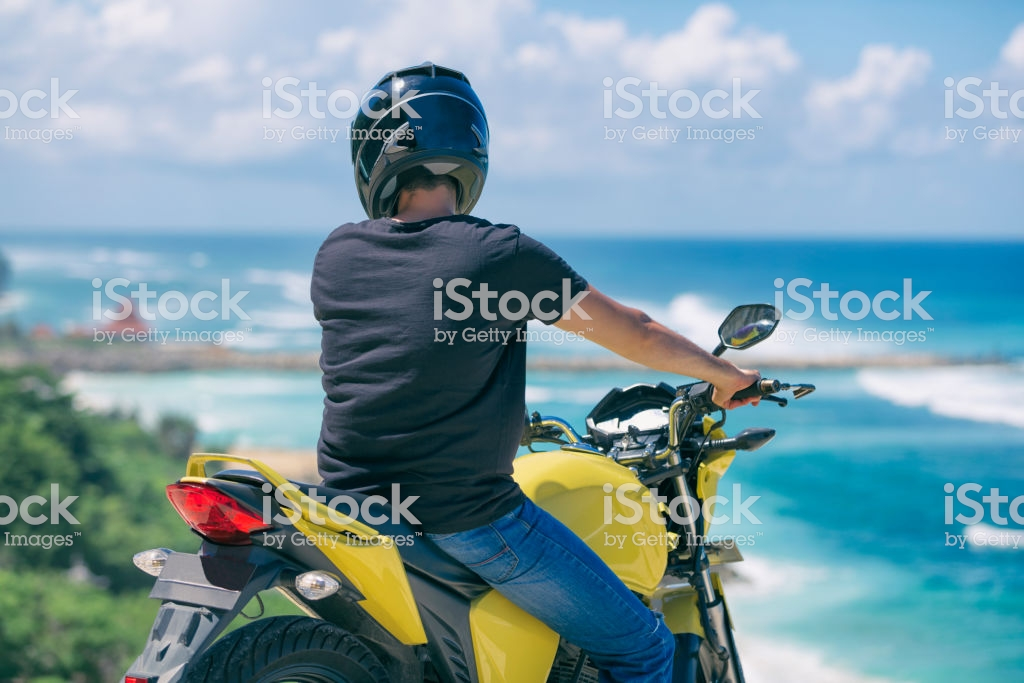helmet: (335, 59, 498, 214)
